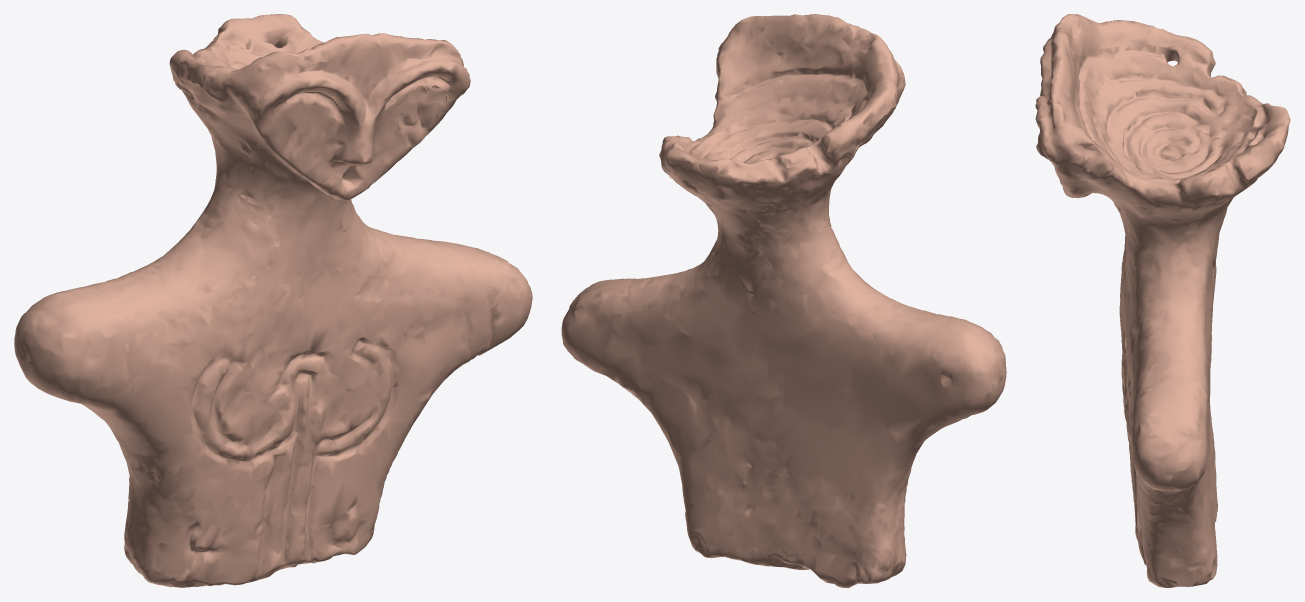
The model's file is wc-dogu-clay-figurine.glb.
3 renders of one model, left to right at view 1: azimuth 30°, elevation 25°; view 2: azimuth 150°, elevation 25°; view 3: azimuth 270°, elevation 25°, orthographic. The views are drawn at different scales.
Parts seen in each view (by area): view 1: wc-dogu-clay-figurine; view 2: wc-dogu-clay-figurine; view 3: wc-dogu-clay-figurine.
Part boxes in pixels (<box>): wc-dogu-clay-figurine: <box>14,14,532,587</box>; wc-dogu-clay-figurine: <box>561,14,1006,587</box>; wc-dogu-clay-figurine: <box>1035,14,1290,587</box>.
Bounding box in the file's own units: 0.1802 × 0.1999 × 0.0883.
